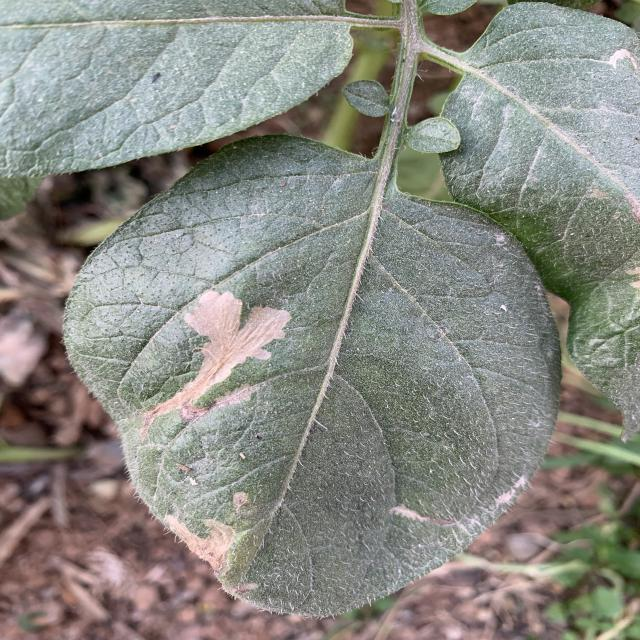lateblight: (147, 290, 292, 420), (165, 515, 235, 572)
